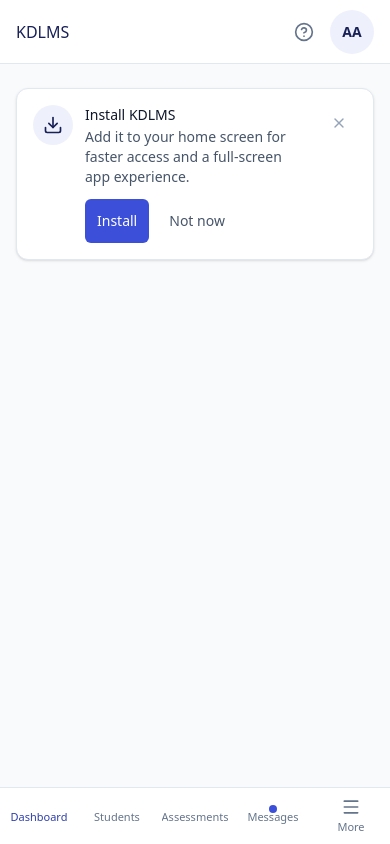
Test: PortalShell drawer install entry › shows Install app in the drawer once a beforeinstallprompt event has been deferred
Click the button "More".
click(351, 816)  # box [312,788,389,843]
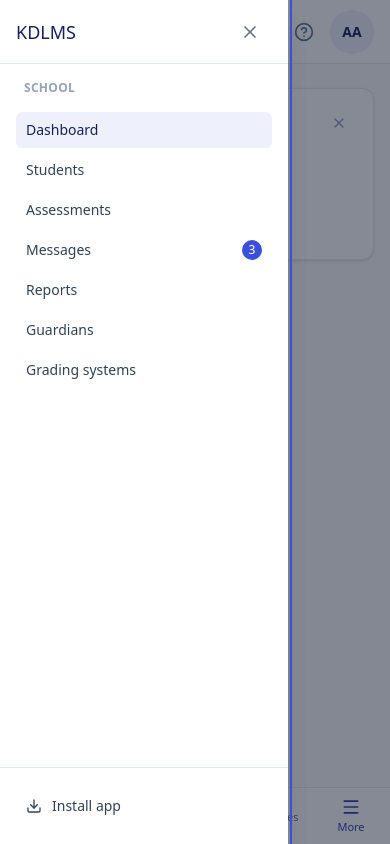
Expected: the button "Install app" is shown, [16,784,272,828]
